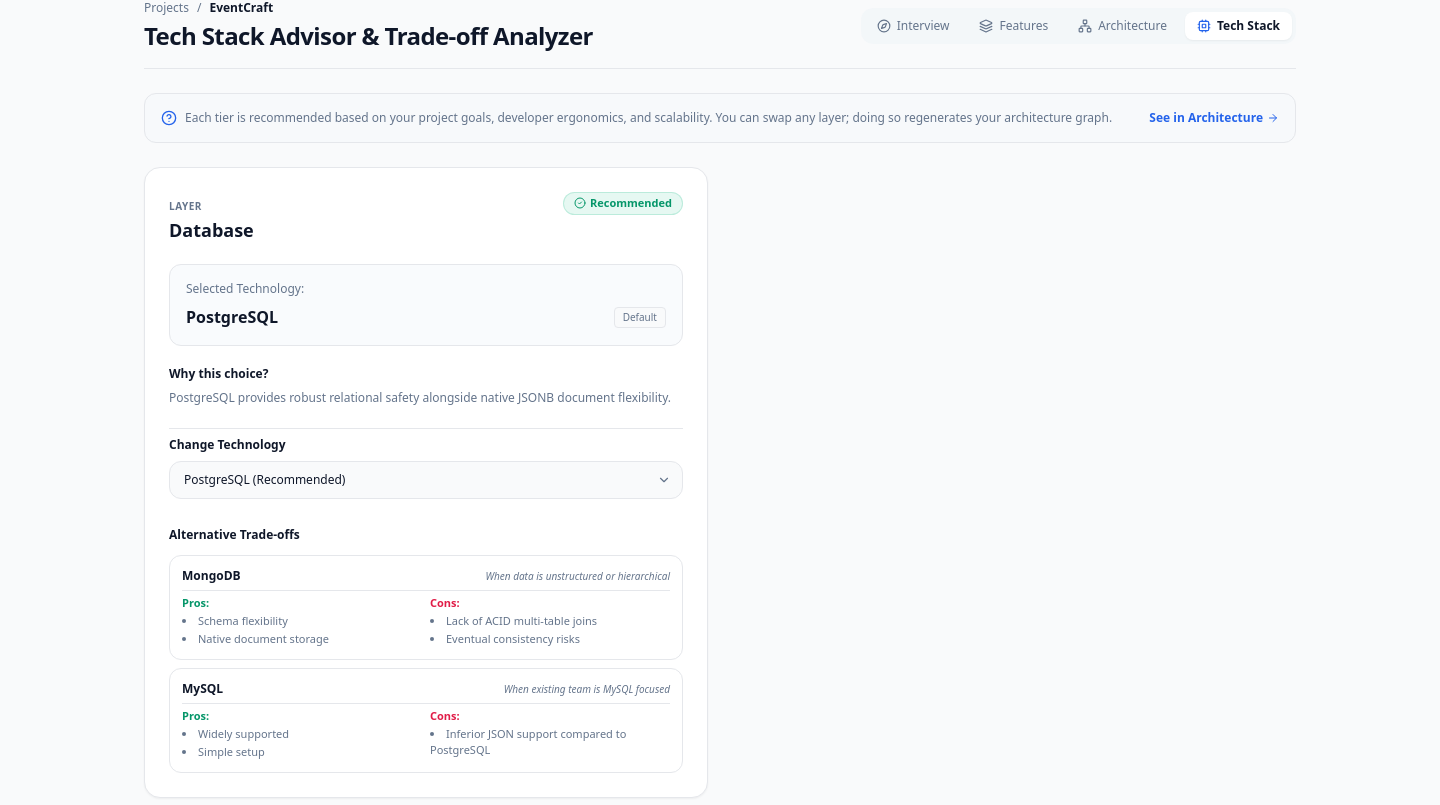
Test: StackPage › opens confirmation modal and swaps technology, regenerating architecture
Expected: the heading "Database" is shown, top-left (169, 216), bottom-right (254, 244)
// Find the select dropdown
Select "MongoDB (Alternative)" in the dropdown named "Change Technology for Database" at coordinates (426, 480), box top-left (169, 460), bottom-right (683, 498)
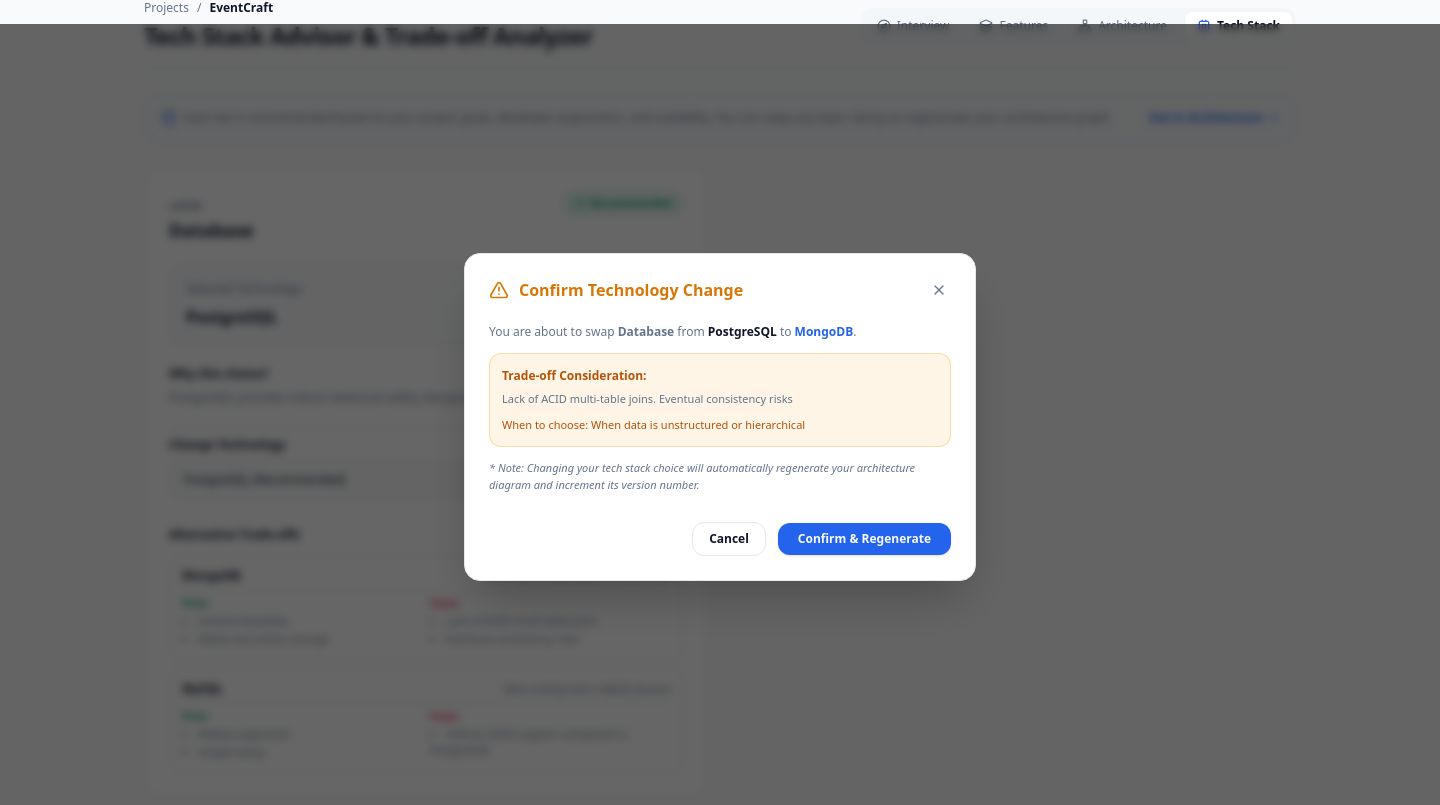
Expected: the heading "Confirm Technology Change" is shown, top-left (519, 278), bottom-right (743, 302)
Expected: the text "Trade-off Consideration:" is shown, top-left (502, 367), bottom-right (646, 384)
// Click Confirm & Regenerate
Click the button "Confirm & Regenerate" at coordinates (864, 539), box top-left (778, 523), bottom-right (951, 555)
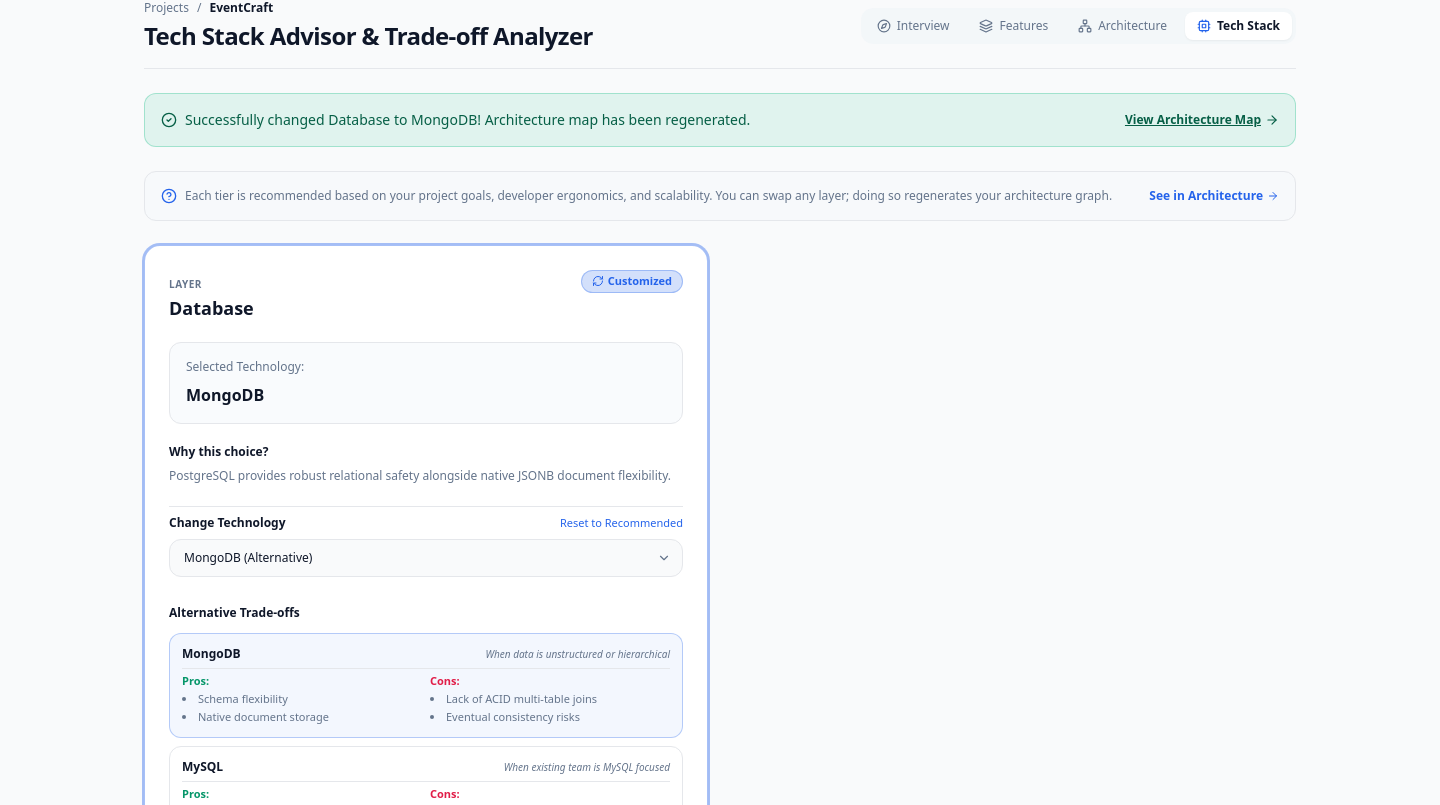
Expected: the text "Successfully changed Database to MongoDB! Architecture map has been regenerated." is shown, top-left (185, 110), bottom-right (750, 130)
